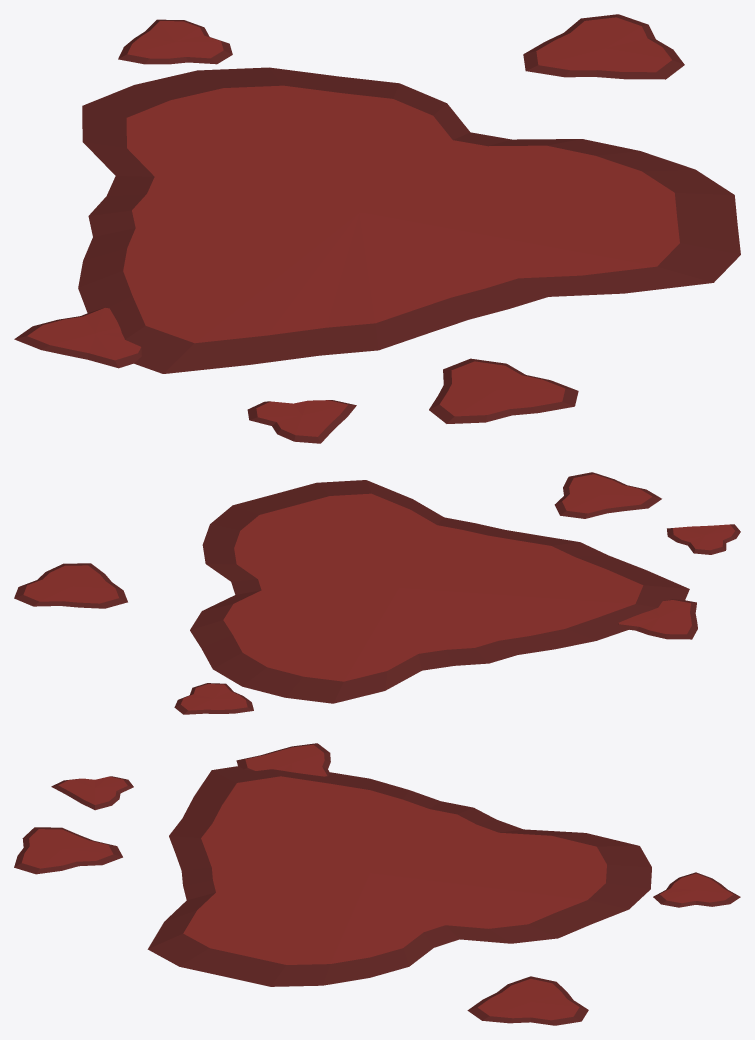
File: gore_pool_big.glb
3 views of the same model, one above another, from view 1: azimuth 30°, elevation 25°; view 2: azimuth 150°, elevation 25°; view 3: azimuth 270°, elevation 25° (orthographic). The views are drawn at different scales.
Parts seen in each view (by area): view 1: NC_gore_pool_big; view 2: NC_gore_pool_big; view 3: NC_gore_pool_big.
Part boxes in pixels (box(x1,y1,x2,y2)): NC_gore_pool_big: box(14, 14, 740, 443); NC_gore_pool_big: box(14, 472, 740, 714); NC_gore_pool_big: box(14, 743, 740, 1025).
Size of the model in its own units: 1.76 by 0.0153 by 1.91.
